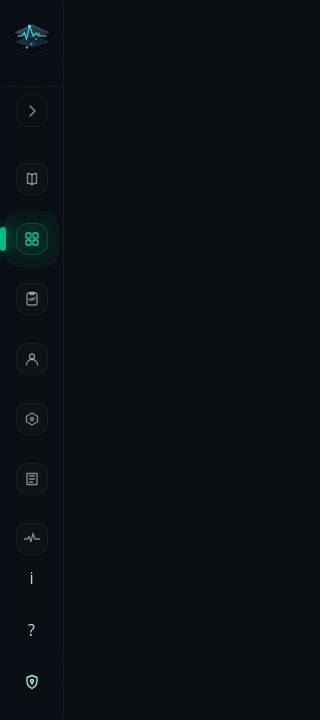
Scenario: Sidebar — Library as the primary destination › shows a rail tooltip labeled Library on hover when collapsed
Hover over the 1st link named "Library" at (32,179), box [4, 151, 59, 207]
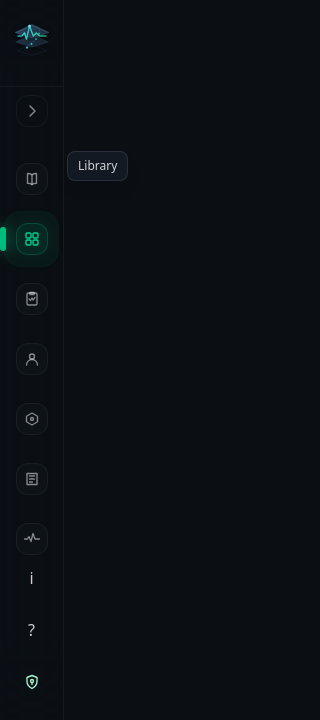
Check: the tooltip reads "Library", box [78, 157, 117, 174]
